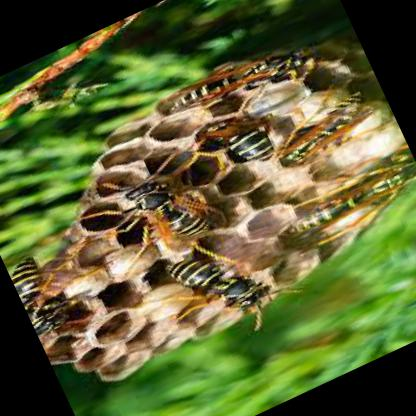other: (152, 216, 296, 350), (94, 142, 230, 264)
